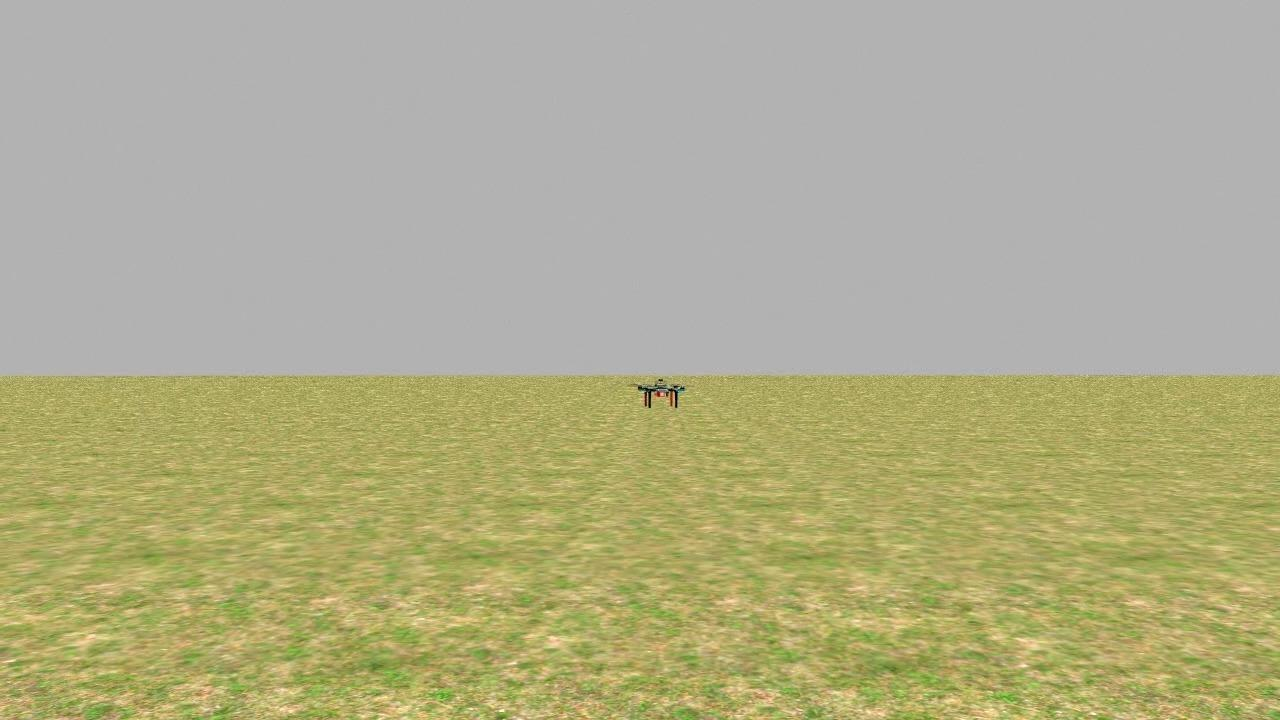UAV: (627, 370, 691, 418)
